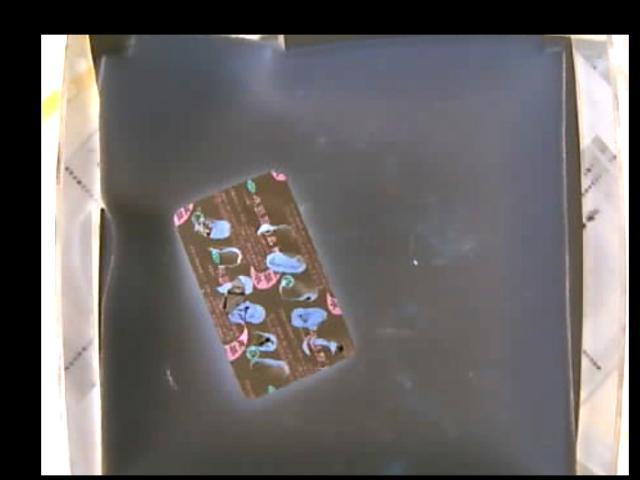Medicine: (173, 173, 350, 400)
